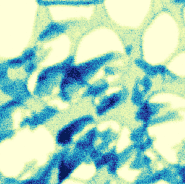hole_empty: (139, 10, 181, 70), (0, 3, 39, 63)
hole_filled: (73, 27, 129, 91), (143, 90, 185, 167)
